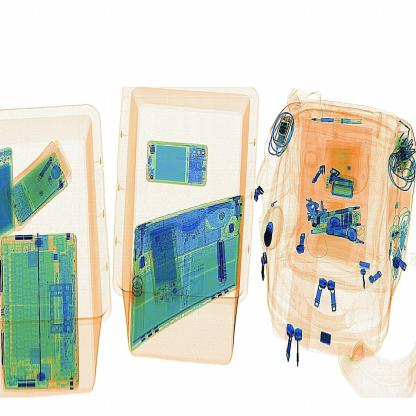scissors: (208, 224, 240, 294)
